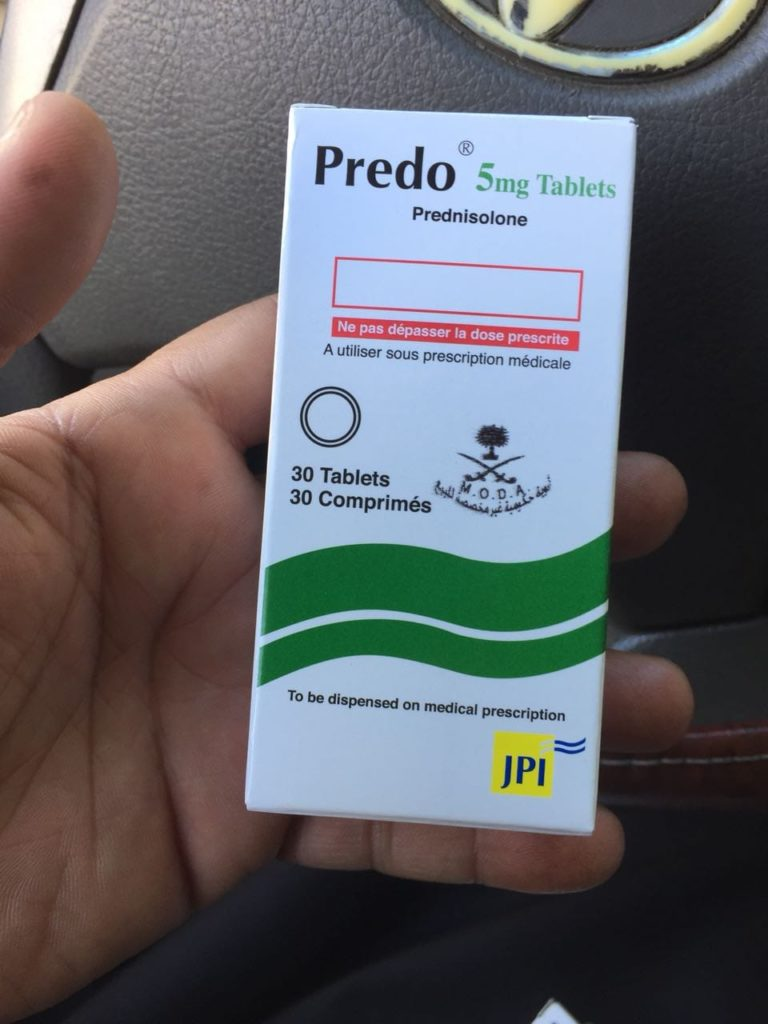Medicine: (242, 92, 635, 850)
